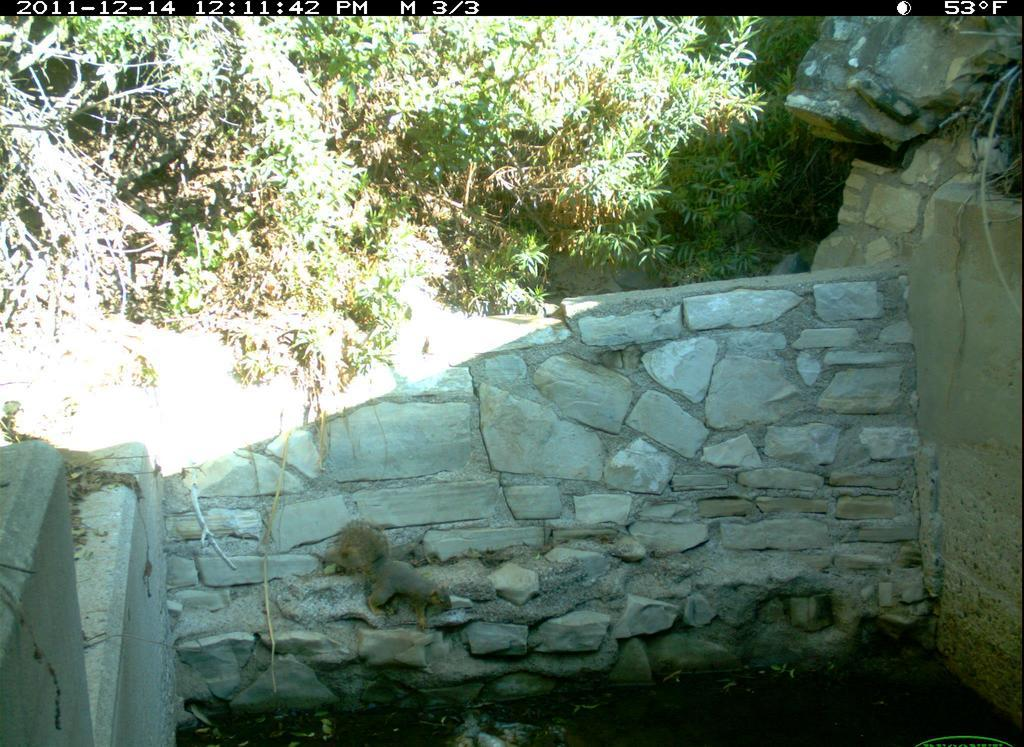squirrel: (367, 555, 466, 626)
